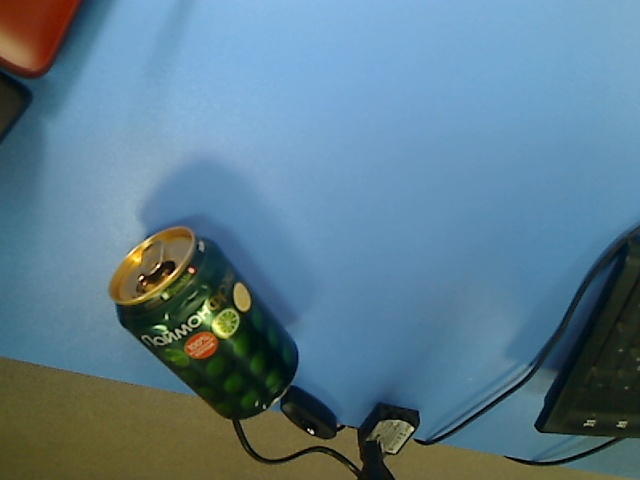can: (104, 224, 303, 425)
